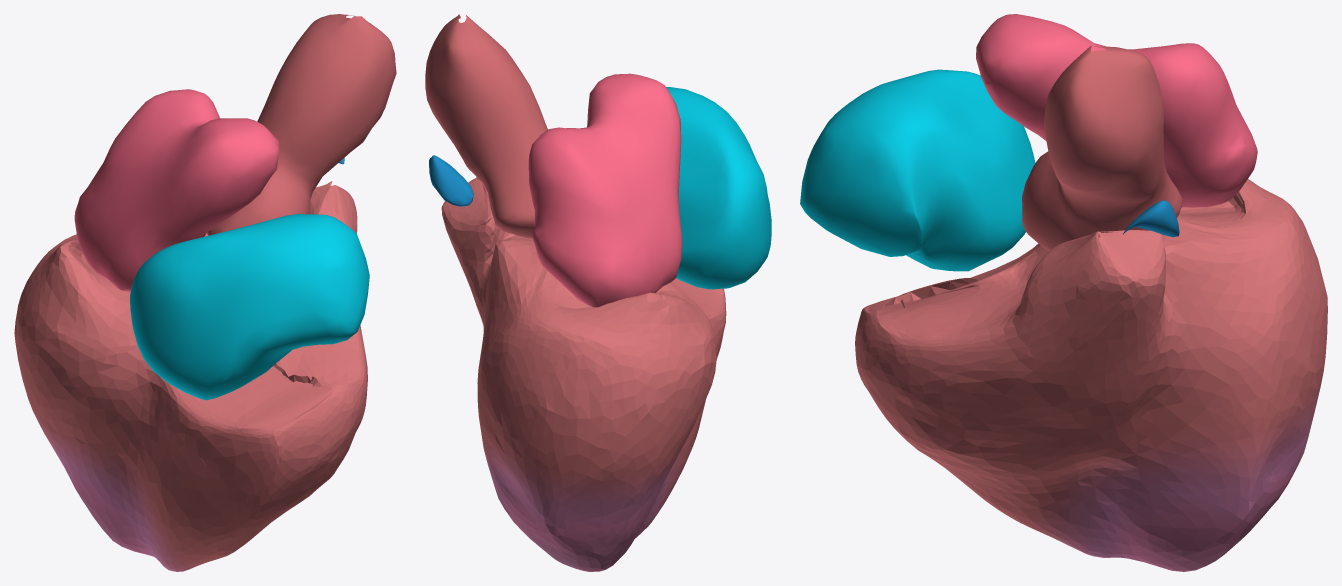
File: frame_24.glb
3 renders of one model, left to right at view 1: azimuth 30°, elevation 25°; view 2: azimuth 150°, elevation 25°; view 3: azimuth 270°, elevation 25°, orthographic. The views are drawn at different scales.
Parts seen in each view (by area): view 1: Renderer Node; view 2: Renderer Node; view 3: Renderer Node.
Part boxes in pixels (x1,y1,x2,y2): Renderer Node: (14, 14, 396, 571); Renderer Node: (425, 14, 771, 571); Renderer Node: (800, 14, 1327, 571).
Size of the model in its own units: 99.11 by 153 by 119.
